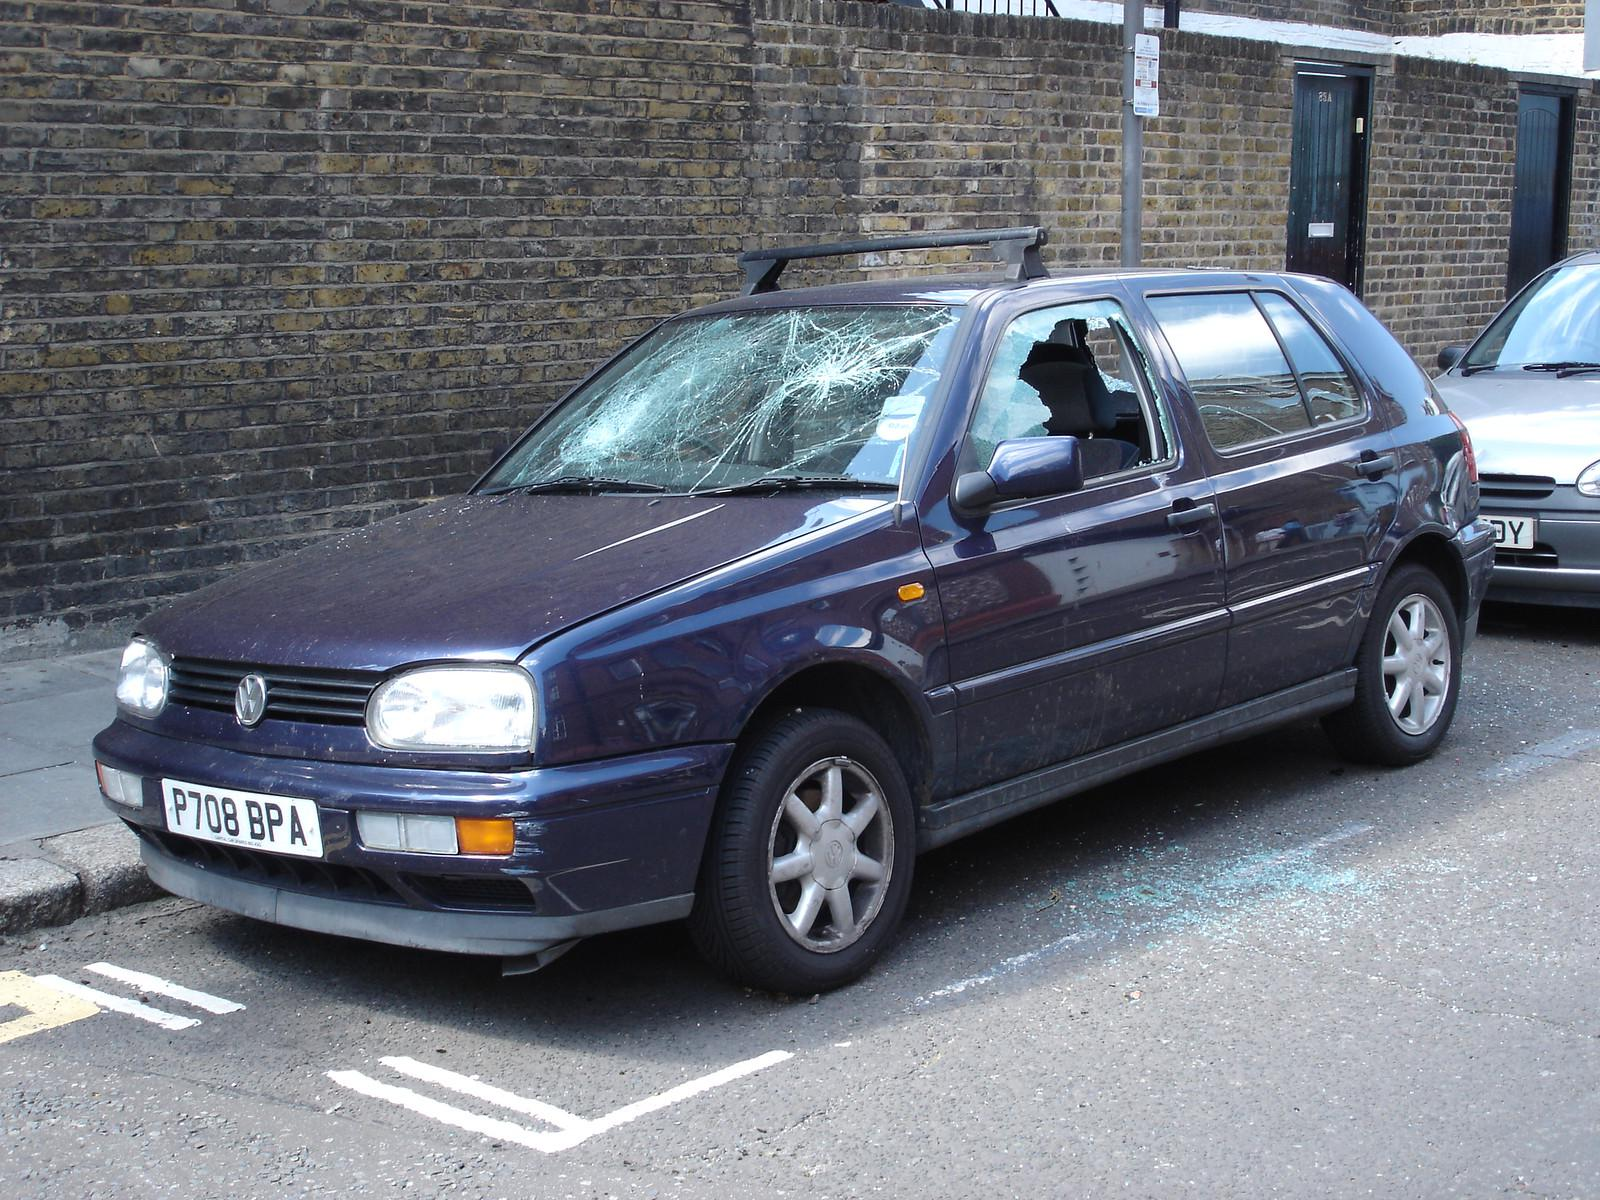Front-Windscreen-Damage: (528, 303, 968, 516)
doorouter-dent: (1216, 446, 1405, 689)
front-bumper-dent: (289, 758, 706, 976)
